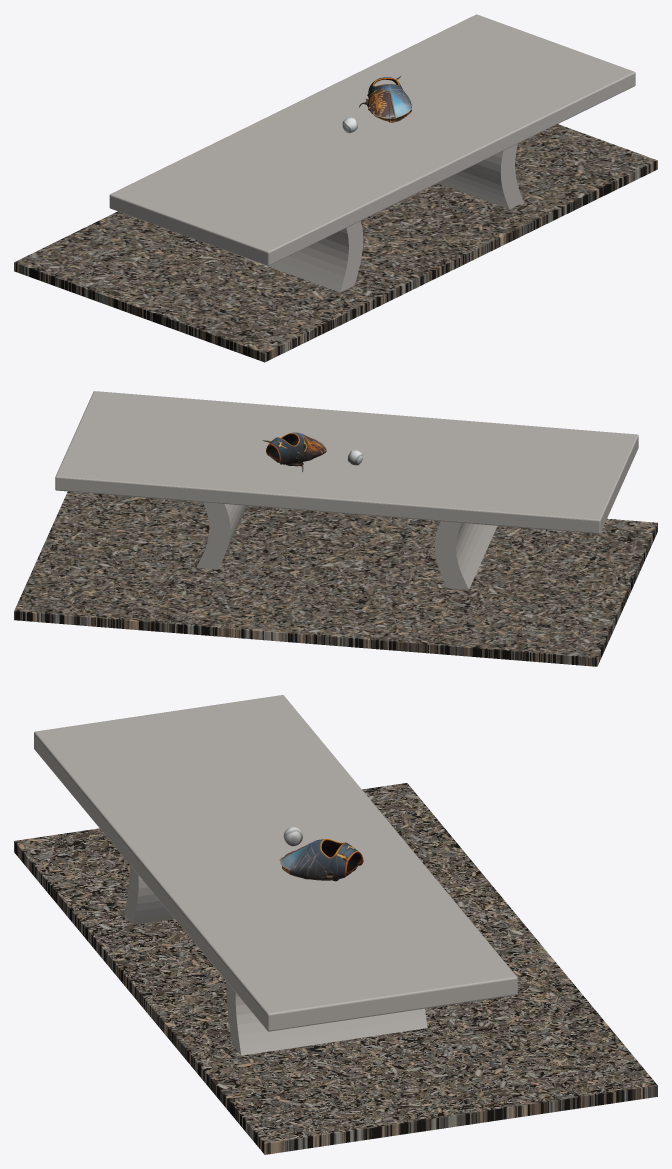
The model's file is bench.glb.
3 views of the same model, one above another, from view 1: azimuth 30°, elevation 25°; view 2: azimuth 150°, elevation 25°; view 3: azimuth 270°, elevation 25° (orthographic). The views are drawn at different scales.
Parts seen in each view (by area): view 1: _grase_bench_0_part_003, floor_0, _grase_bench_0_part_001, _grase_bench_0_part_002, obj_glove_0; view 2: floor_0, _grase_bench_0_part_003, _grase_bench_0_part_001, _grase_bench_0_part_002, obj_glove_0; view 3: _grase_bench_0_part_003, floor_0, _grase_bench_0_part_002, obj_glove_0, _grase_bench_0_part_001.
Boxes of the visible parts, x1,y1,x2,y2 form: _grase_bench_0_part_003: (109, 14, 635, 265); floor_0: (14, 124, 657, 362); _grase_bench_0_part_001: (221, 221, 363, 292); _grase_bench_0_part_002: (438, 144, 523, 209); obj_glove_0: (359, 76, 411, 122); floor_0: (14, 491, 657, 666); _grase_bench_0_part_003: (55, 391, 638, 533); _grase_bench_0_part_001: (434, 521, 497, 589); _grase_bench_0_part_002: (196, 502, 246, 569); obj_glove_0: (262, 432, 326, 471); _grase_bench_0_part_003: (34, 695, 517, 1031); floor_0: (14, 783, 657, 1154); _grase_bench_0_part_002: (226, 982, 427, 1055); obj_glove_0: (279, 839, 363, 881); _grase_bench_0_part_001: (124, 865, 174, 925).
Size of the model in its own units: 2.77 by 0.5806 by 2.09.
Materials: 4 (3 with a texture image).
